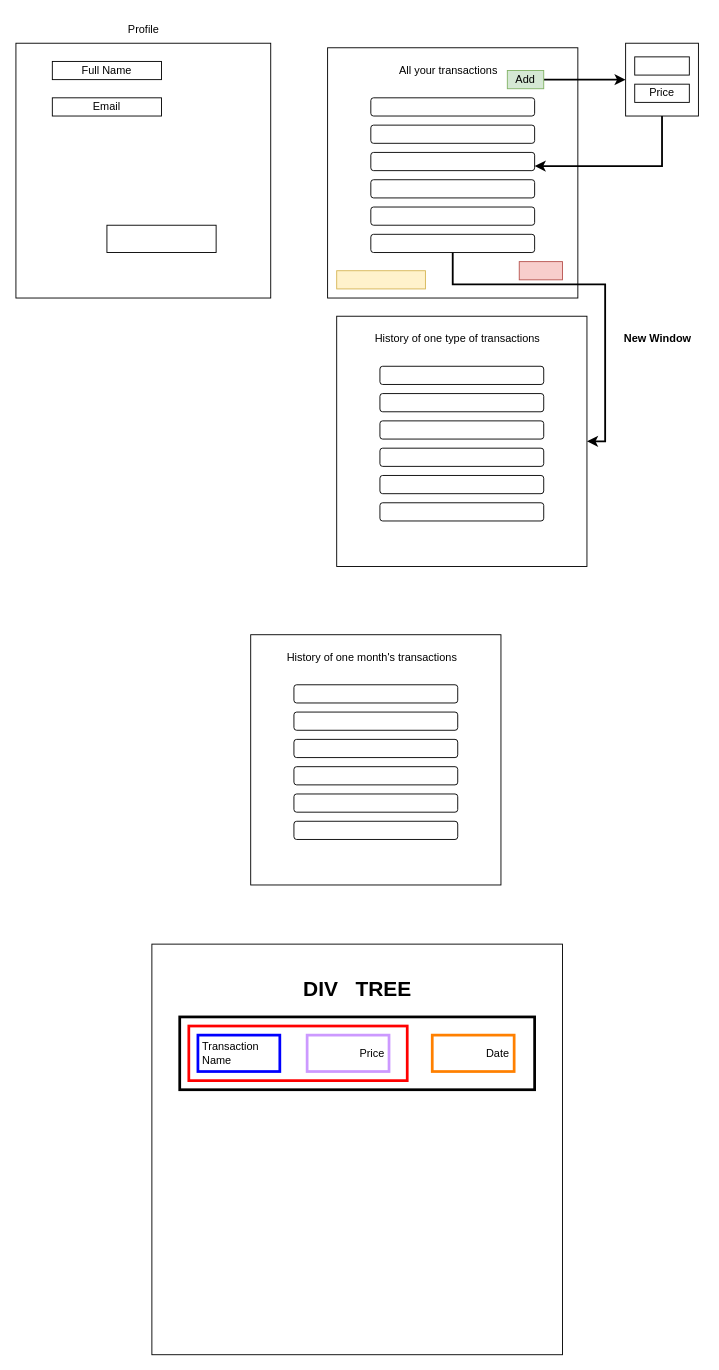
Image size: 719x1370. Some labels were removed from this diagram. The shapes that lost their labels are listed below. From the top down, each one's box as (x1, y1, x2, y2) in pixels, then its label:
(634, 56, 689, 75): Name
(106, 224, 216, 253): Text pertaining to Goal
(336, 270, 425, 289): Balance Forward
(518, 261, 562, 280): Target
